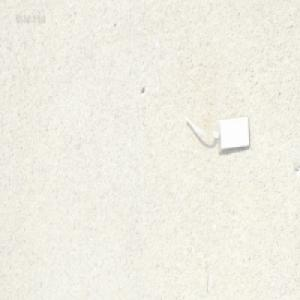LuggageTag: (183, 112, 251, 153)
